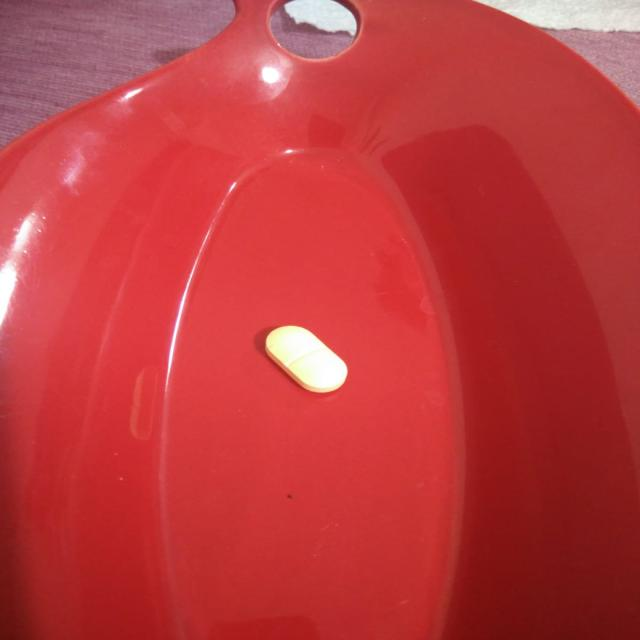pills: (248, 314, 362, 406)
